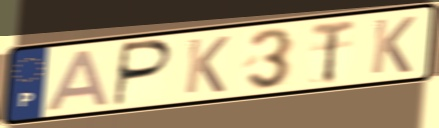3: (237, 26, 299, 93)
A: (44, 47, 113, 113)
K: (367, 14, 418, 76), (181, 34, 232, 96)
P: (110, 37, 176, 109)
T: (309, 17, 358, 86)
